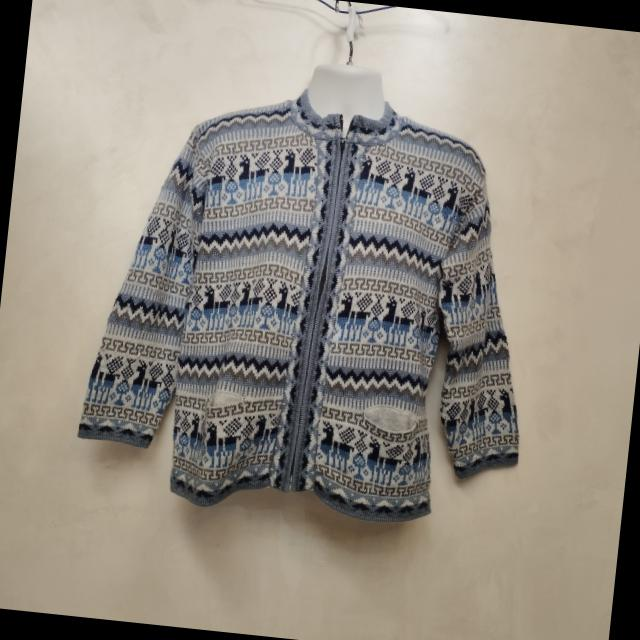Chompa: (71, 62, 555, 540)
